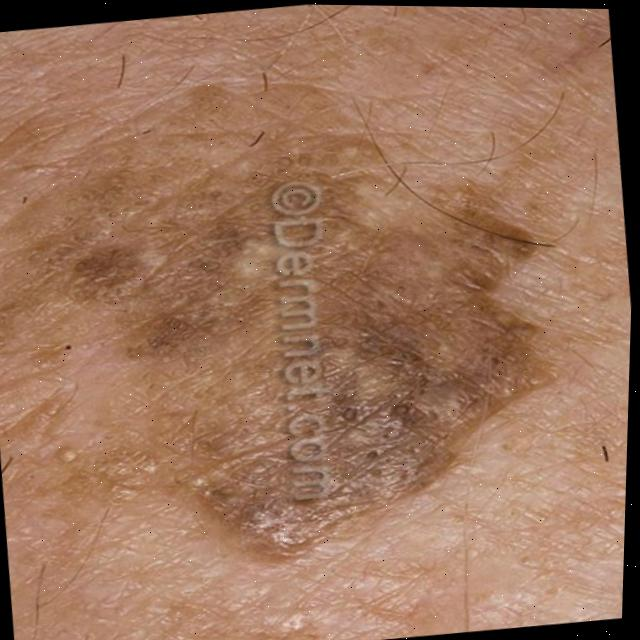Eczema: (17, 65, 601, 583)
